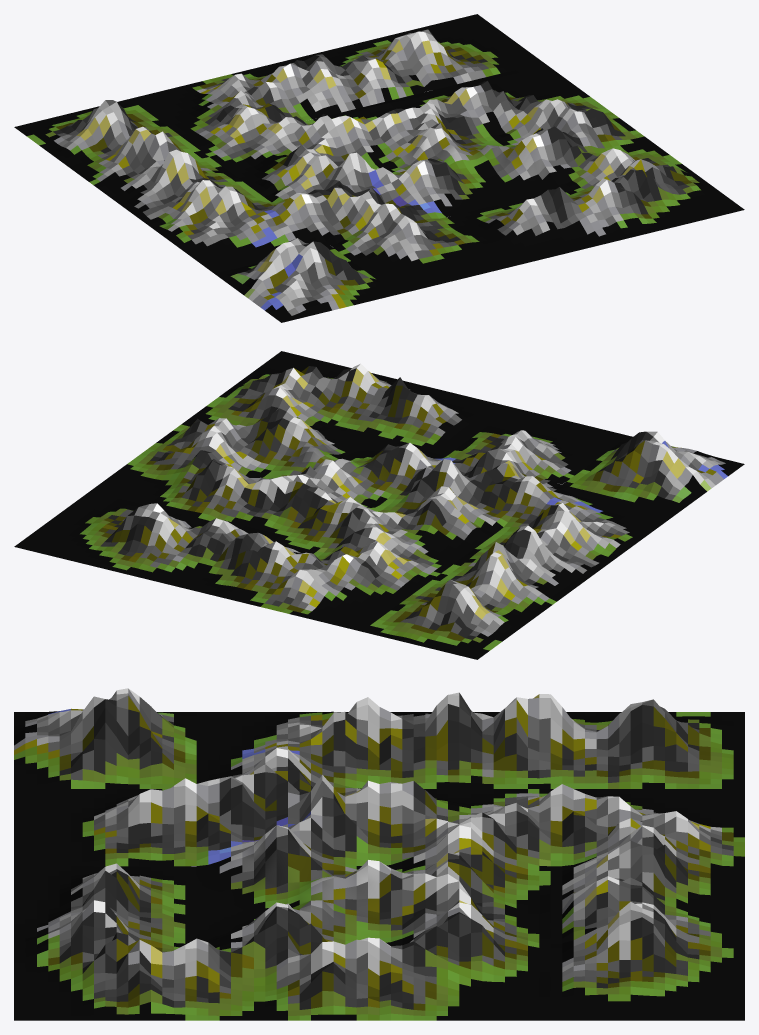
Rendered from mountains.glb.
The picture shows the model from 3 angles, top to bottom: view 1: azimuth 30°, elevation 25°; view 2: azimuth 150°, elevation 25°; view 3: azimuth 270°, elevation 25°; orthographic projection. The views are drawn at different scales.
Parts seen in each view (by area): view 1: mountains3, mountains1, mountains11, mountains2, mountains0, mountains7, mountains9, mountains15, mountains5, mountains10, mountains6, mountains13 (+4 smaller); view 2: mountains6, mountains4, mountains2, mountains14, mountains10, mountains7, mountains0, mountains15, mountains5, mountains12, mountains8, mountains3 (+4 smaller); view 3: mountains8, mountains13, mountains12, mountains9, mountains5, mountains0, mountains15, mountains4, mountains1, mountains14, mountains11, mountains10 (+4 smaller).
Part boxes in pixels (bbox=[...]): mountains3: bbox=[148, 180, 329, 273]; mountains1: bbox=[331, 203, 512, 294]; mountains11: bbox=[383, 127, 561, 217]; mountains2: bbox=[447, 185, 628, 266]; mountains0: bbox=[215, 238, 396, 322]; mountains7: bbox=[197, 107, 378, 196]; mountains9: bbox=[562, 148, 744, 237]; mountains15: bbox=[264, 152, 445, 245]; mountains5: bbox=[81, 126, 263, 224]; mountains10: bbox=[246, 38, 427, 119]; mountains6: bbox=[130, 66, 311, 147]; mountains13: bbox=[495, 99, 677, 188]; mountains6: bbox=[246, 542, 427, 631]; mountains4: bbox=[362, 570, 543, 659]; mountains2: bbox=[331, 371, 512, 456]; mountains14: bbox=[197, 464, 378, 553]; mountains10: bbox=[130, 517, 304, 603]; mountains7: bbox=[314, 493, 494, 582]; mountains0: bbox=[562, 431, 744, 512]; mountains15: bbox=[380, 444, 561, 533]; mountains5: bbox=[429, 521, 610, 610]; mountains12: bbox=[81, 436, 262, 525]; mountains8: bbox=[14, 498, 196, 574]; mountains3: bbox=[495, 476, 677, 561]; mountains8: bbox=[562, 901, 744, 1020]; mountains13: bbox=[196, 902, 379, 1020]; mountains12: bbox=[379, 902, 562, 1020]; mountains9: bbox=[14, 900, 196, 1020]; mountains5: bbox=[379, 692, 562, 788]; mountains0: bbox=[14, 688, 196, 788]; mountains15: bbox=[196, 748, 379, 865]; mountains4: bbox=[562, 699, 744, 788]; mountains1: bbox=[14, 778, 196, 866]; mountains14: bbox=[379, 825, 562, 943]; mountains11: bbox=[196, 825, 379, 941]; mountains10: bbox=[562, 825, 744, 943].
Size of the model in its own units: 4 by 0.3503 by 4.
1 material, 1 textured.
